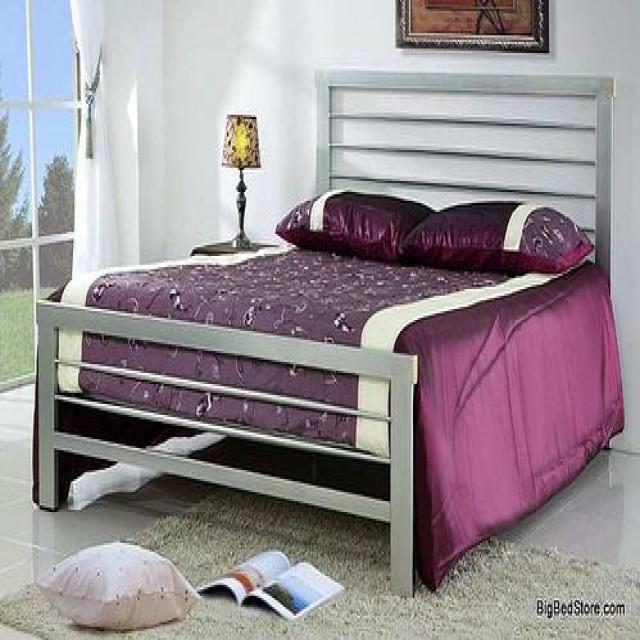bed: (31, 66, 624, 598)
